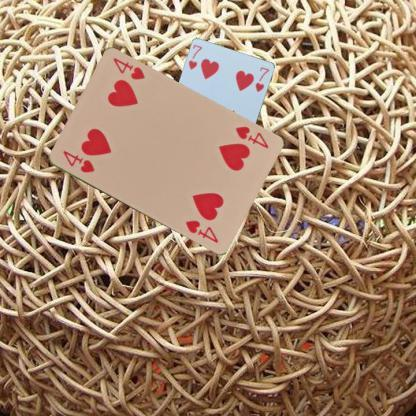4h: (232, 124, 270, 150), (60, 148, 96, 174)
7h: (186, 42, 204, 71)
